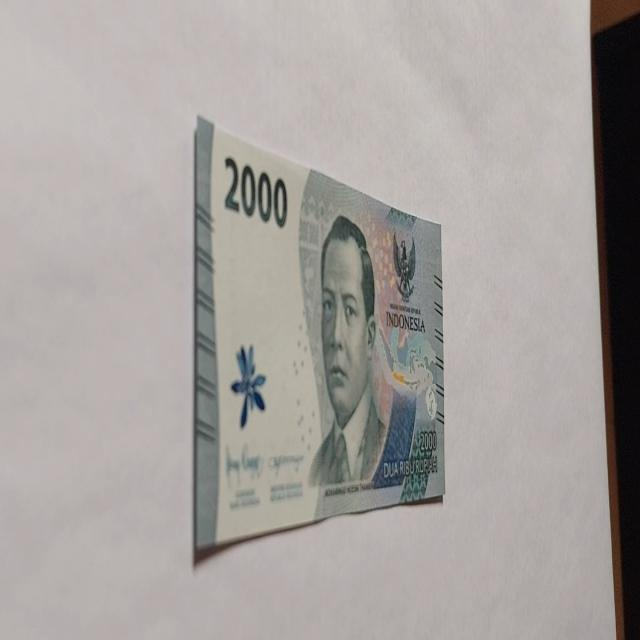dua ribu rupiah: (193, 114, 446, 556), (307, 212, 389, 488)
